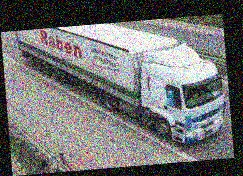truck: (17, 14, 228, 158)
